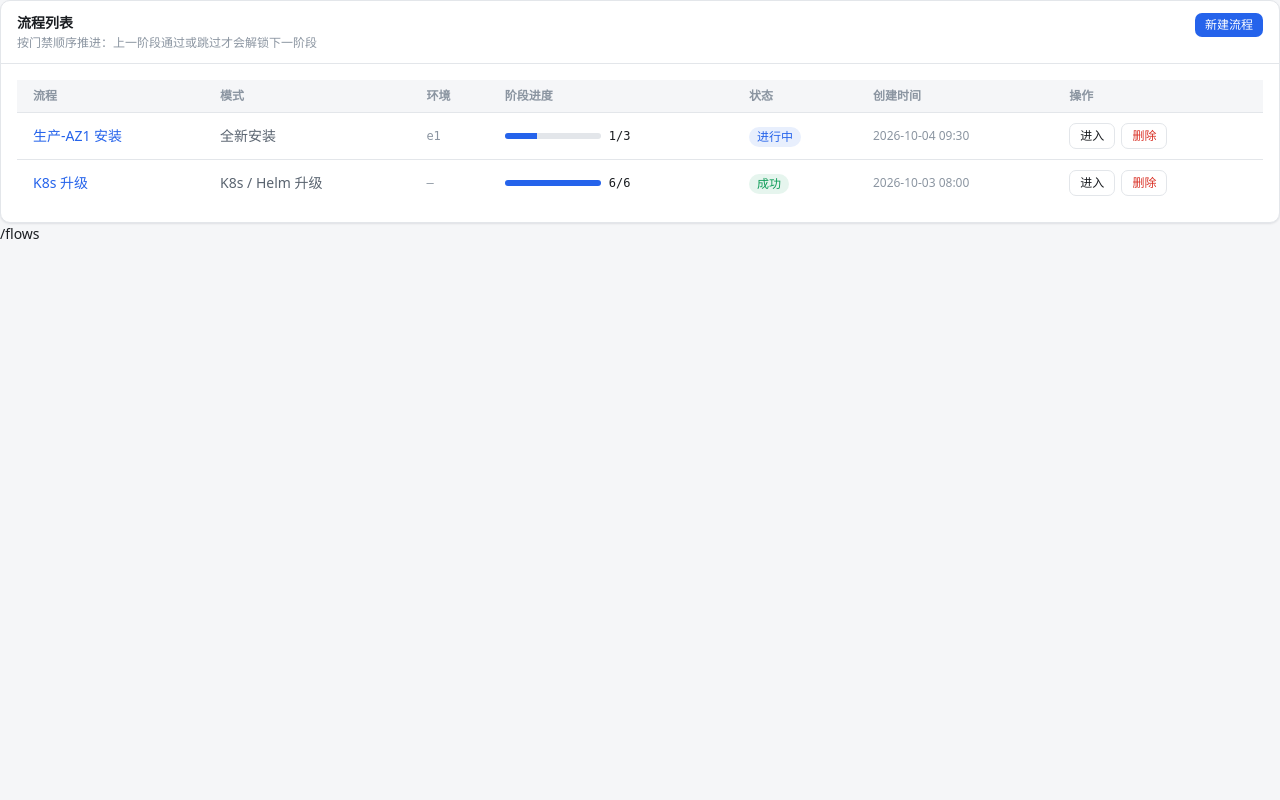
Flows 列表页 › 删除：确认文案含流程名与创建日期，确认后发 DELETE
Check: the link "生产-AZ1 安装" is shown, box [33,126,122,145]
Click the button "删除" in the row of "生产-AZ1 安装" at x=1144, y=136, box [1121,123,1167,149]
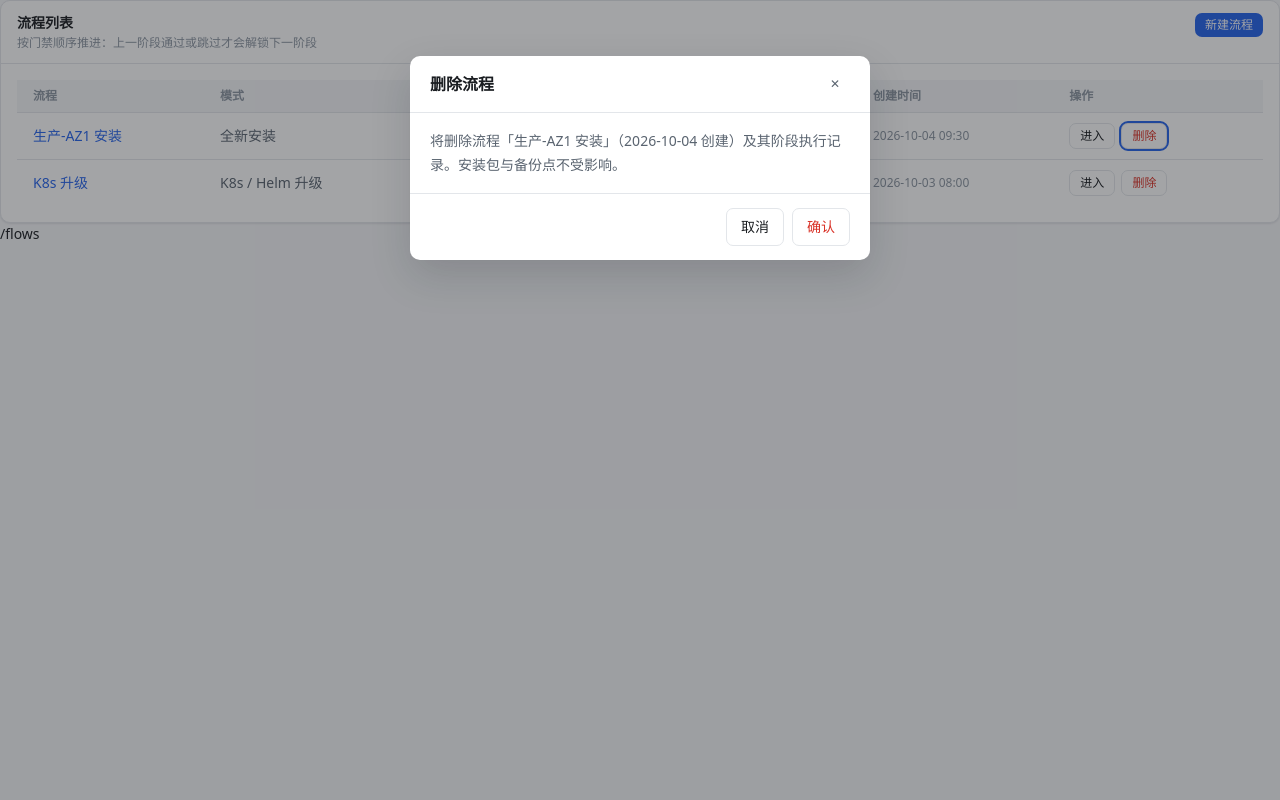
Check: the text "将删除流程「生产-AZ1 安装」（2026-10-04 创建）及其阶段执行记录。安装包与备份点不受影响。" is shown, box [430,129,850,177]
Click the button "确认" at x=821, y=227, box [792,208,850,246]
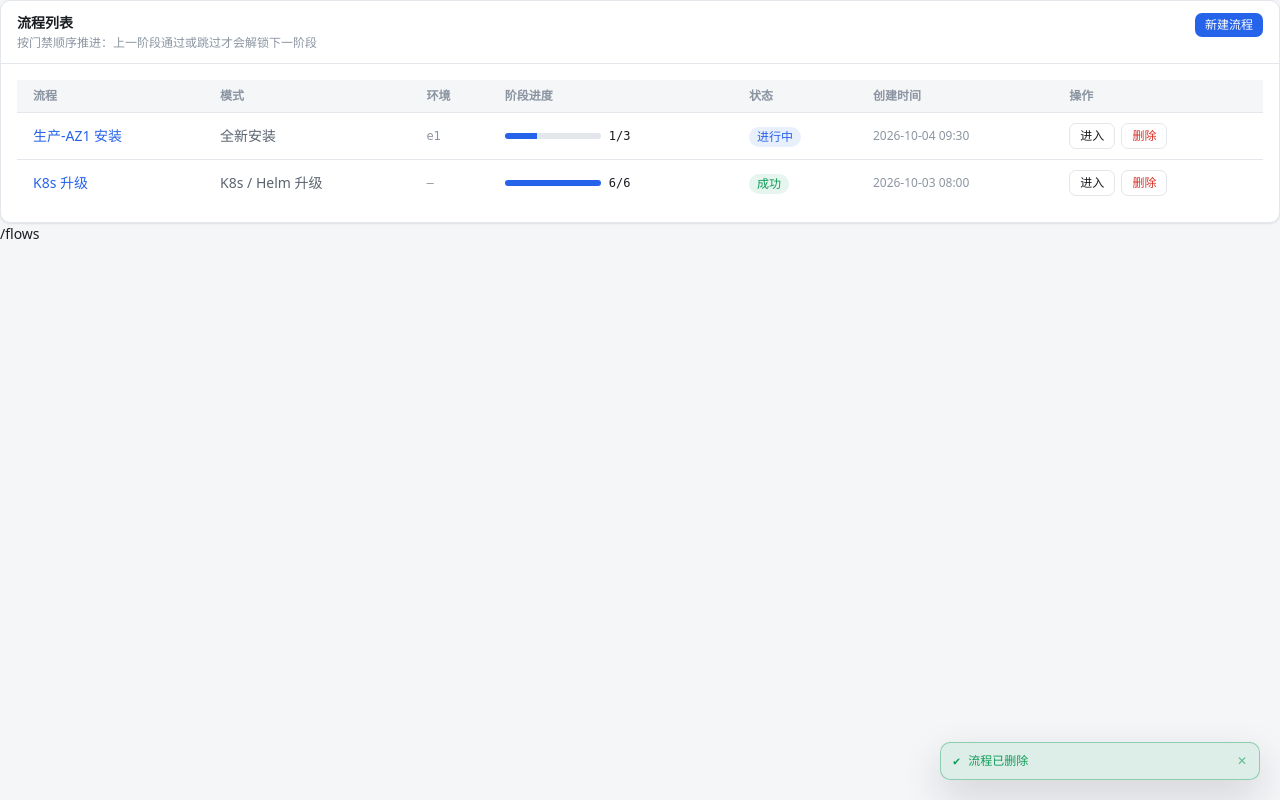
Check: the text "流程已删除" is shown, box [968,752,1028,769]
